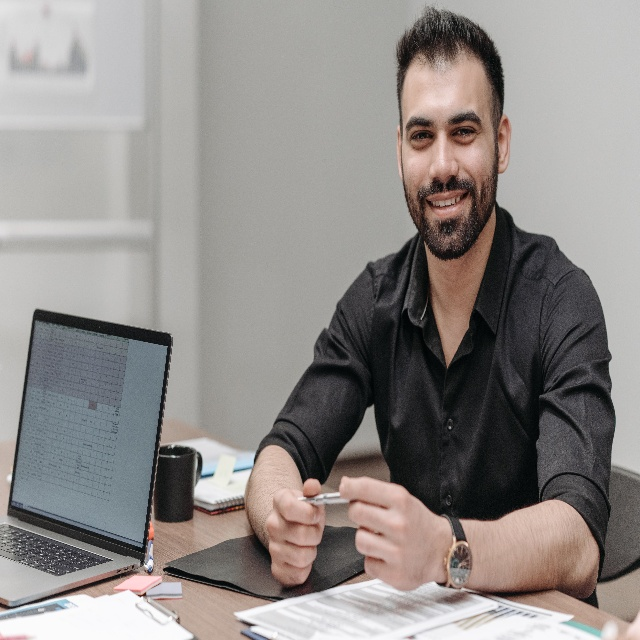Sin_guantes: (341, 473, 445, 591), (264, 468, 324, 581)
